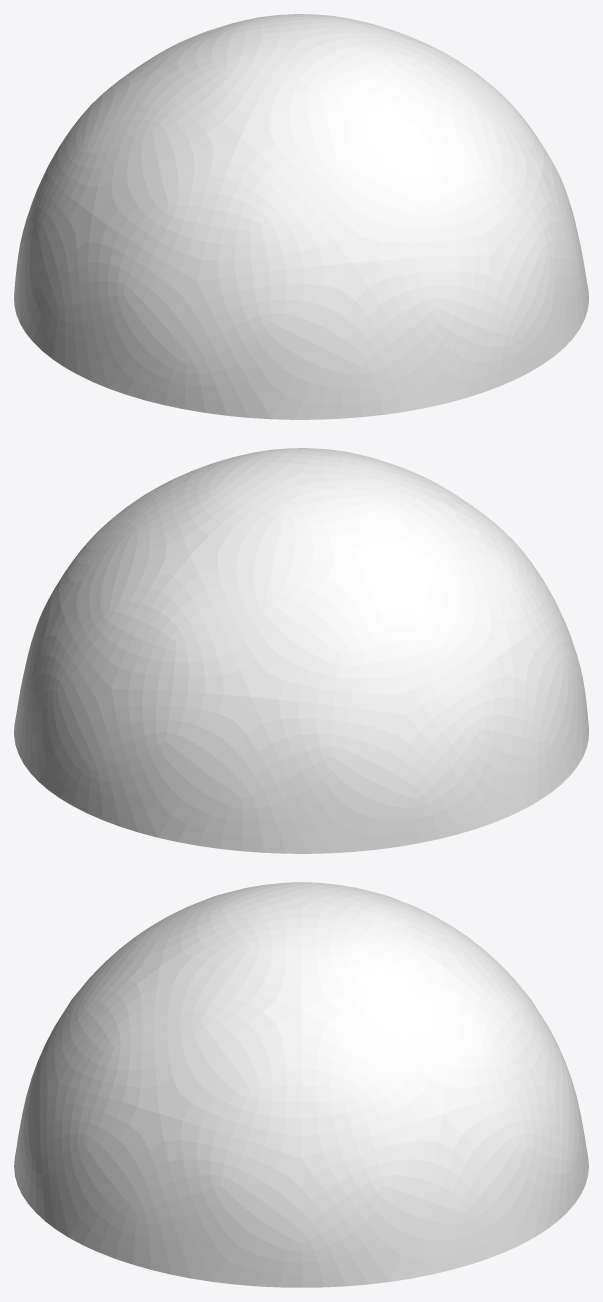
File: Skysphere.fbx
3 views of the same model, one above another, from view 1: azimuth 30°, elevation 25°; view 2: azimuth 150°, elevation 25°; view 3: azimuth 270°, elevation 25° (orthographic).
Parts seen in each view (by area): view 1: Icosphere; view 2: Icosphere; view 3: Icosphere.
Part boxes in pixels (<box>): Icosphere: <box>14,14,588,419</box>; Icosphere: <box>14,448,588,853</box>; Icosphere: <box>14,882,588,1287</box>.
Size of the model in its own units: 187 by 93.03 by 187.
1 material, 1 textured.
